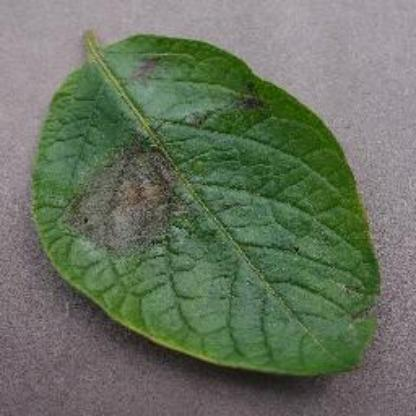Late-Blight: (25, 24, 401, 390)
